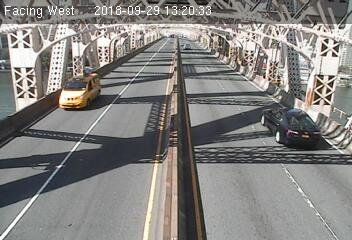car: (255, 104, 327, 155), (57, 71, 103, 111), (180, 40, 197, 53)
